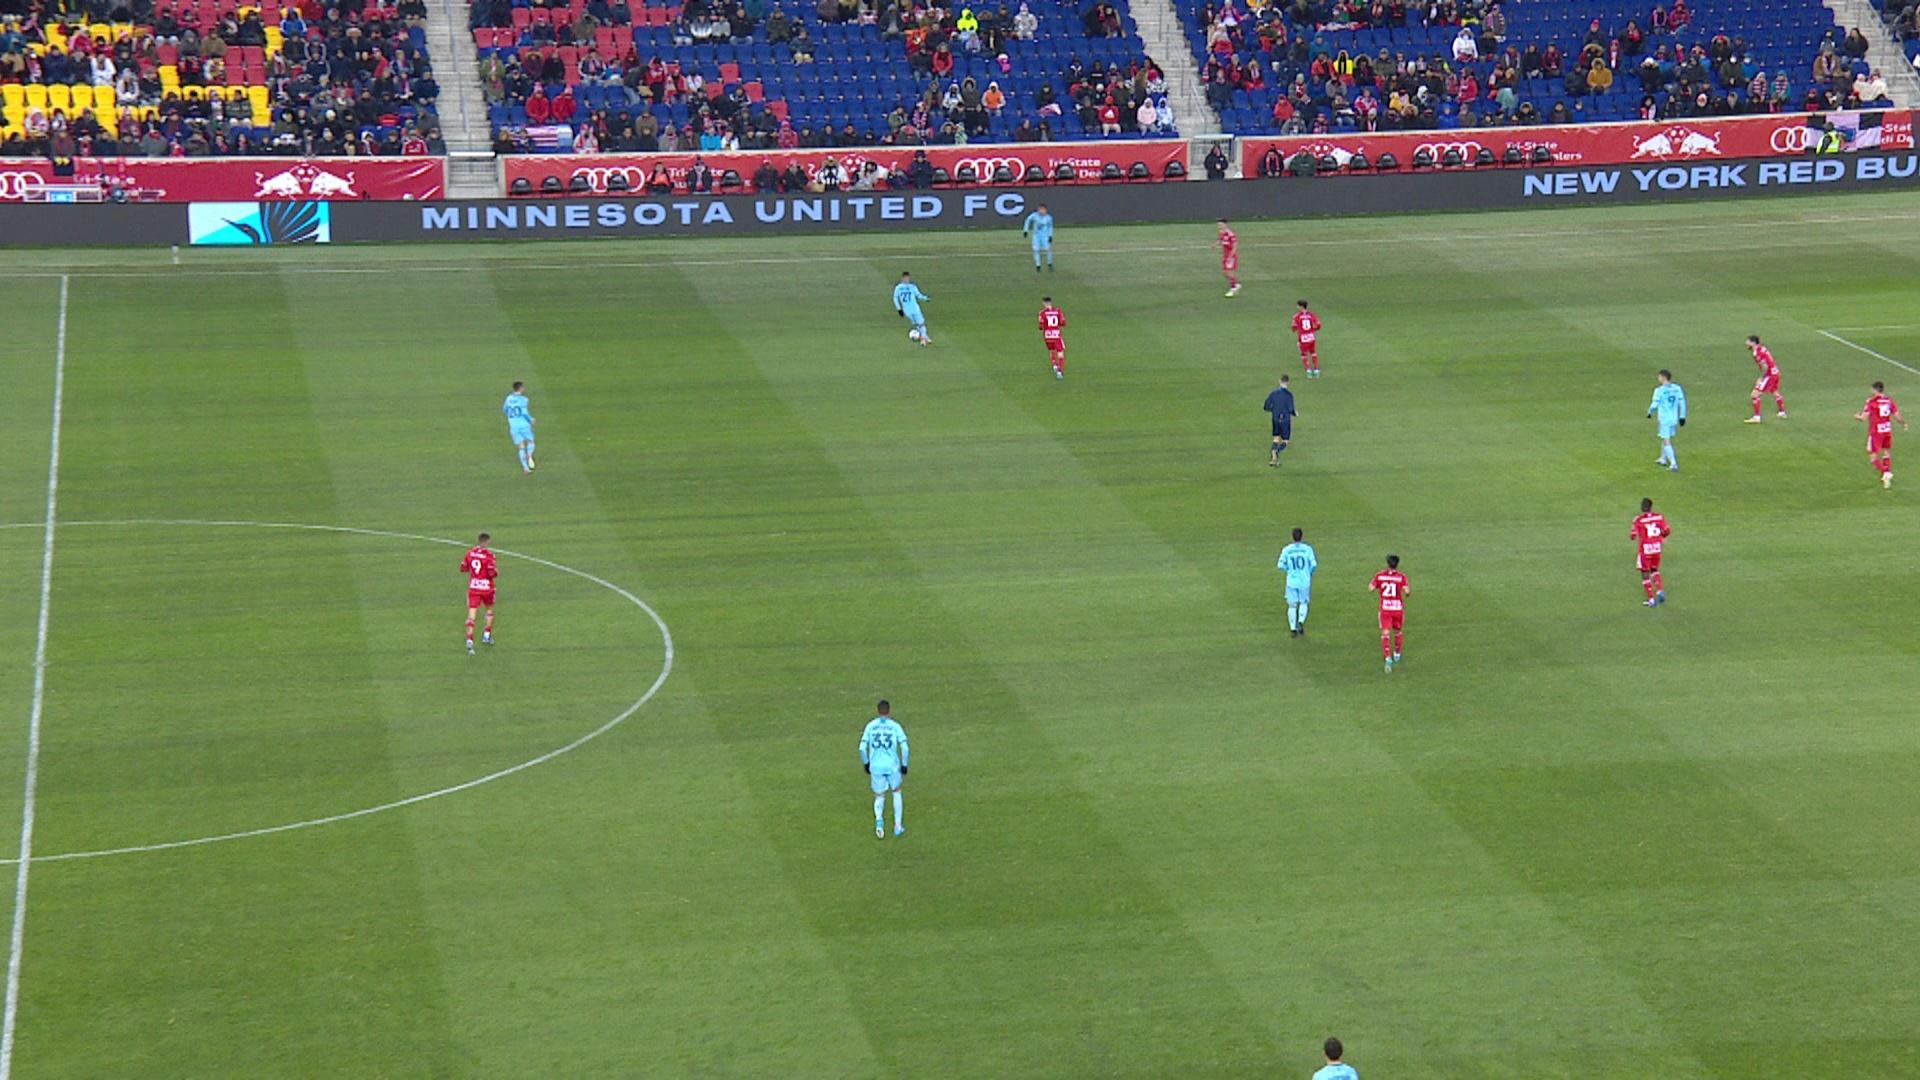football: (907, 328, 919, 342)
